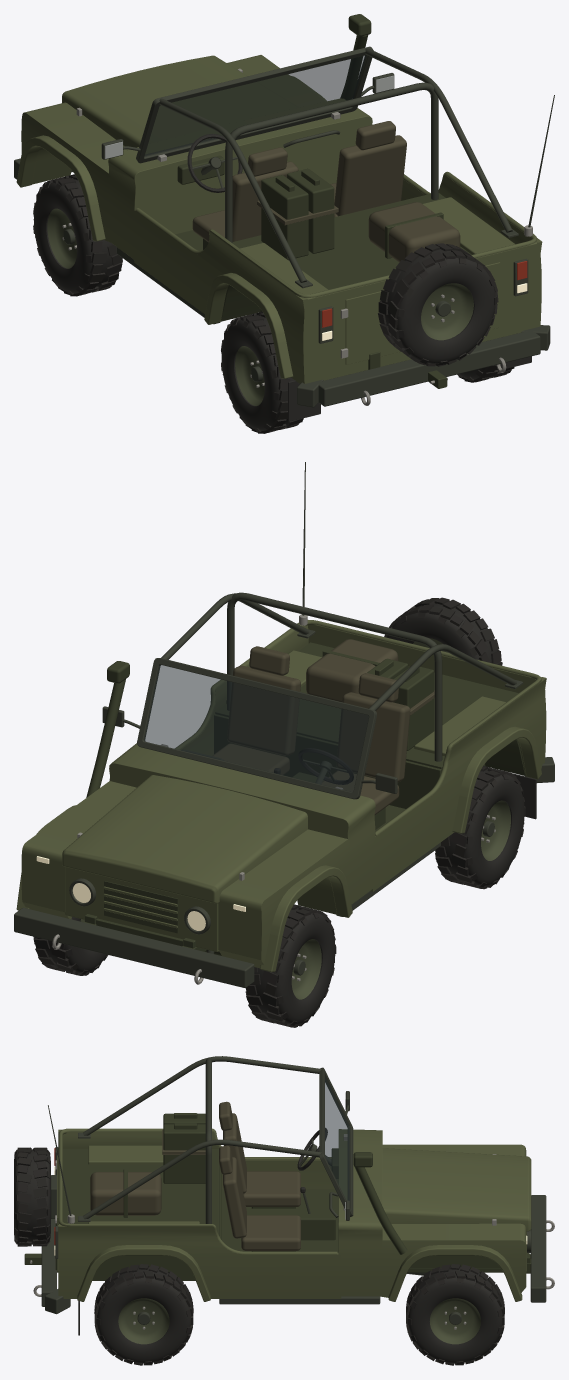
The model's file is vehicle.glb.
3 renders of one model, top to bottom at view 1: azimuth 30°, elevation 25°; view 2: azimuth 150°, elevation 25°; view 3: azimuth 270°, elevation 25°, orthographic. The views are drawn at different scales.
Parts seen in each view (by area): view 1: Body, Wheel_FL, Wheel_RL, Wheel_RR; view 2: Body, Wheel_FL, Wheel_RL, Wheel_FR; view 3: Body, Wheel_RR, Wheel_FR.
Boxes of the visible parts, left/top/right/bottom form: Body: left=14, top=14, right=554, bottom=421; Wheel_FL: left=33, top=174, right=122, bottom=296; Wheel_RL: left=221, top=311, right=303, bottom=433; Wheel_RR: left=457, top=365, right=514, bottom=382; Body: left=14, top=462, right=554, bottom=987; Wheel_FL: left=245, top=904, right=336, bottom=1027; Wheel_RL: left=435, top=766, right=525, bottom=889; Wheel_FR: left=33, top=917, right=108, bottom=975; Body: left=14, top=1056, right=554, bottom=1335; Wheel_RR: left=94, top=1264, right=193, bottom=1365; Wheel_FR: left=406, top=1264, right=504, bottom=1365.
Bounding box in the file's own units: 2.15 × 2.24 × 4.17.
